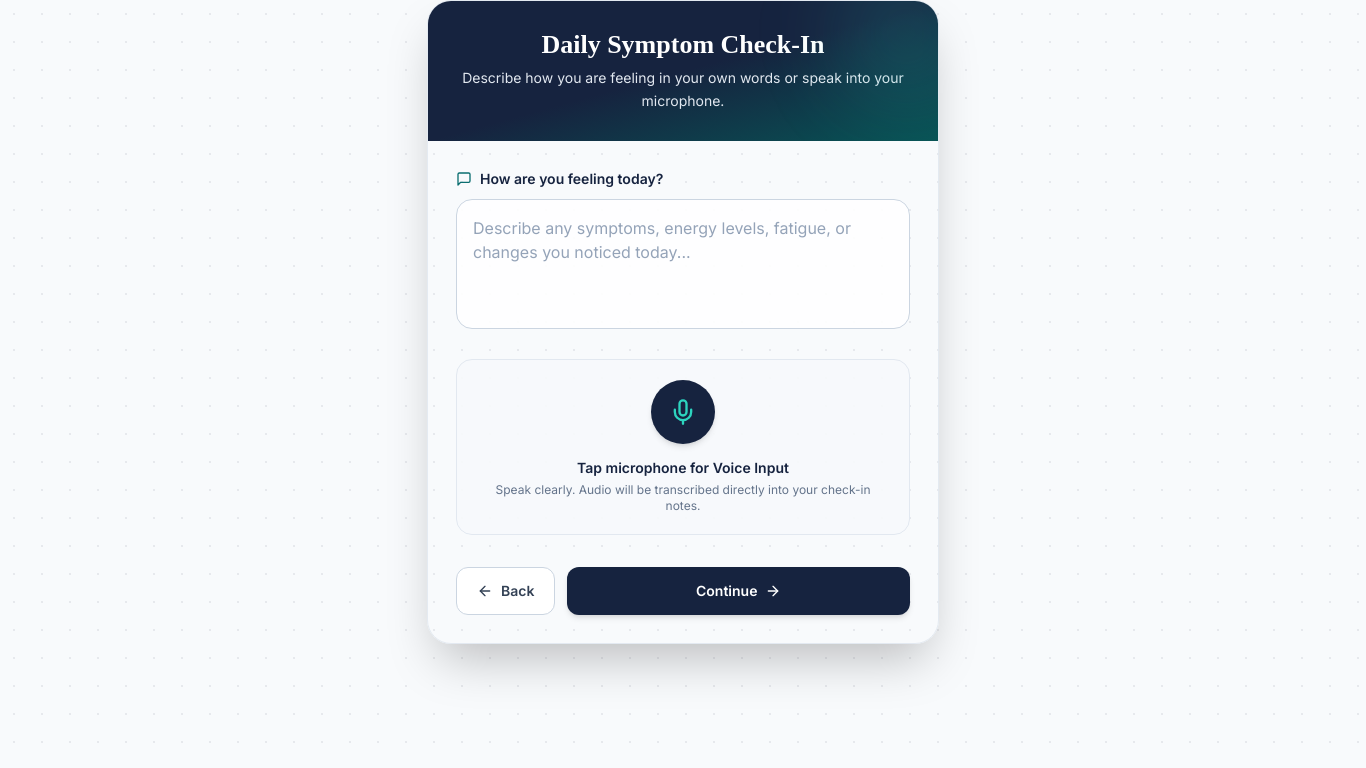
Scenario: STAGE 10E-0 Bug 2: CheckInEntryScreen voice recording › live mode: voice disabled in profile settings shows disabled message immediately
This screenshot has width=1366, height=768.
Click the button named "Tap microphone for Voice Input".
click(683, 412)  # box 651,380 -> 715,444
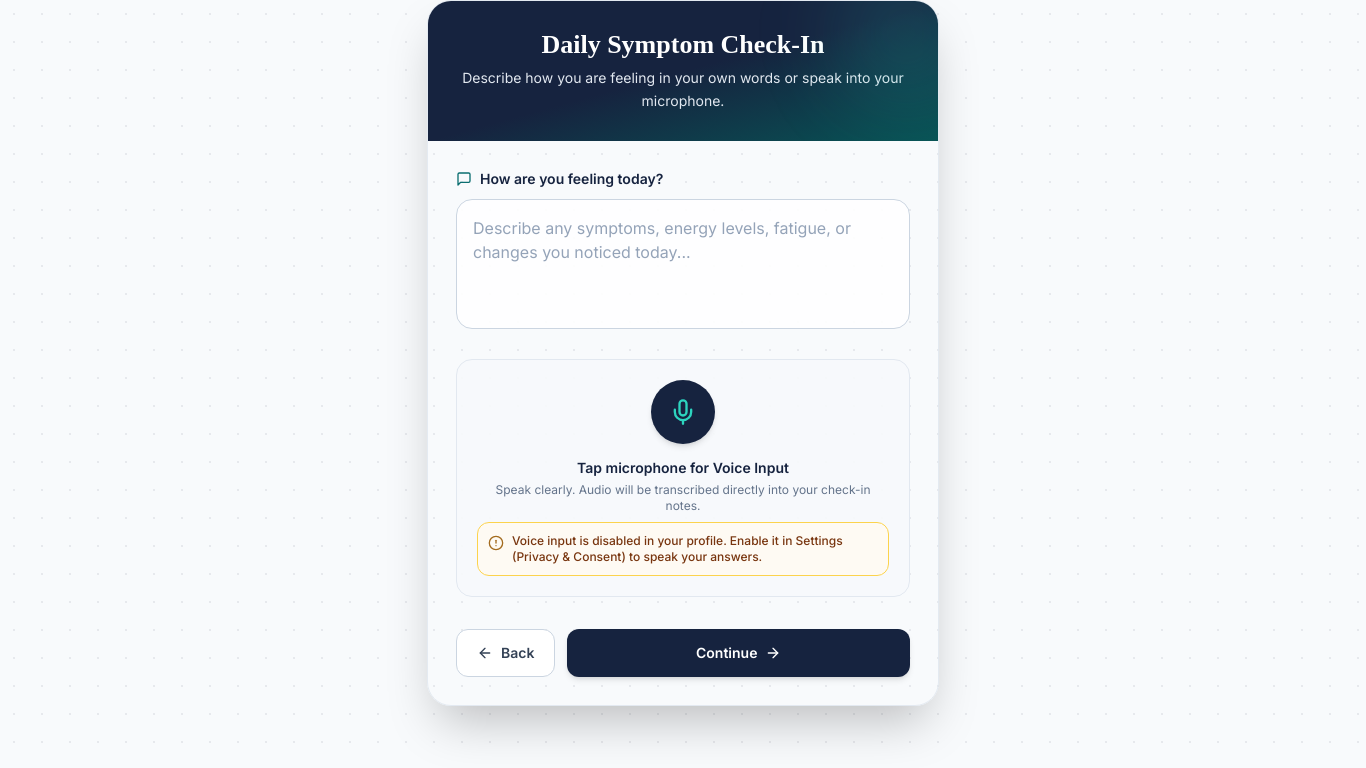
Expected: the text "Voice input is disabled in your profile. Enable it in Settings (Privacy & Consent) to speak your answers." is shown, 512,532 -> 843,564
